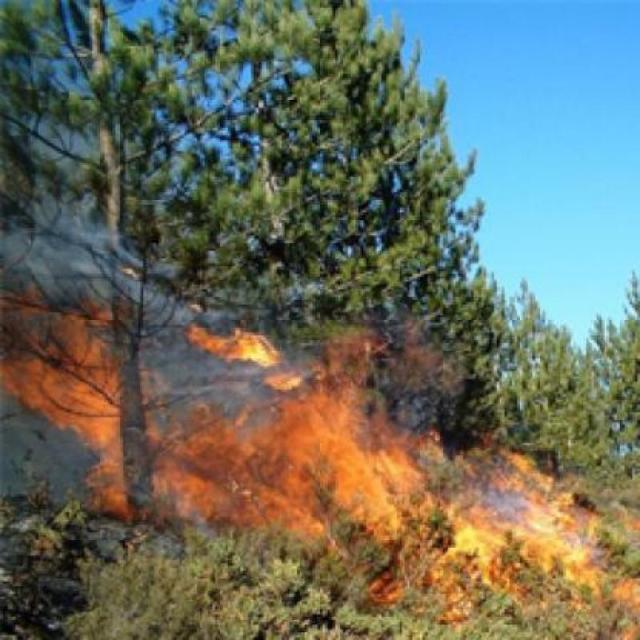Fire: (0, 267, 634, 614)
